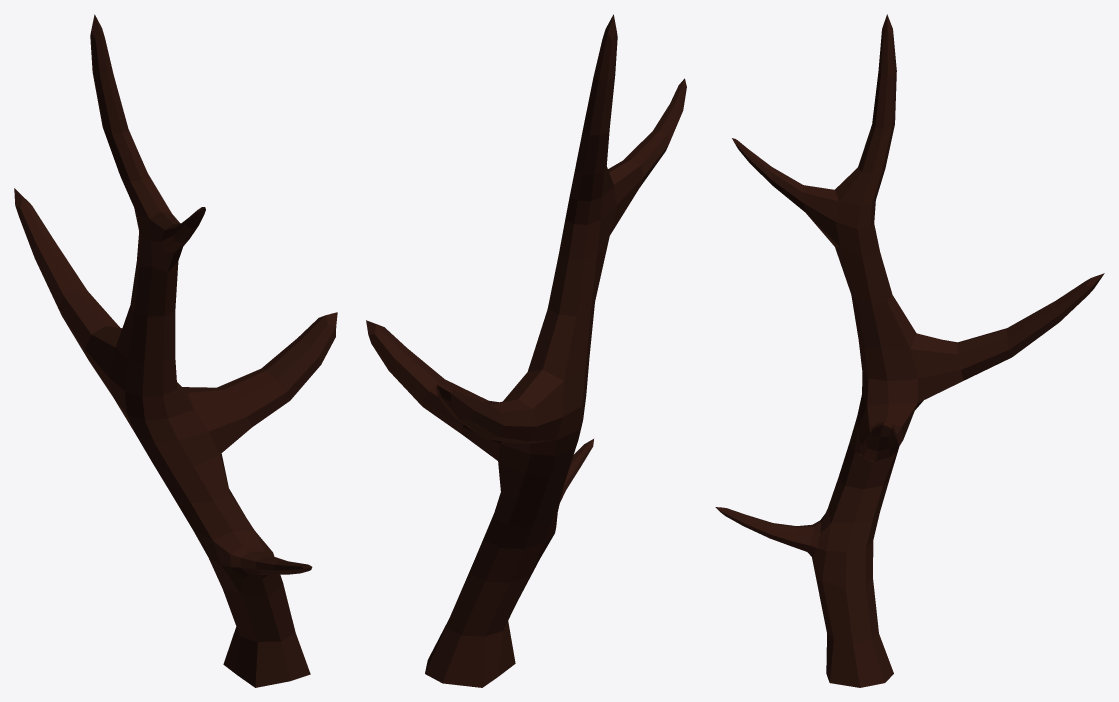
Rendered from tree_2.obj.
3 views of the same model, side by side, from view 1: azimuth 30°, elevation 25°; view 2: azimuth 150°, elevation 25°; view 3: azimuth 270°, elevation 25° (orthographic). The views are drawn at different scales.
Visible parts, largest first — view 1: Cube.009_Cube.011; view 2: Cube.009_Cube.011; view 3: Cube.009_Cube.011.
Part boxes in pixels (bbox=[...]): Cube.009_Cube.011: bbox=[14, 14, 337, 687]; Cube.009_Cube.011: bbox=[366, 14, 686, 687]; Cube.009_Cube.011: bbox=[715, 14, 1104, 687].
Size of what is drawn, in the model's own units: 2.91 by 7.76 by 4.63.
